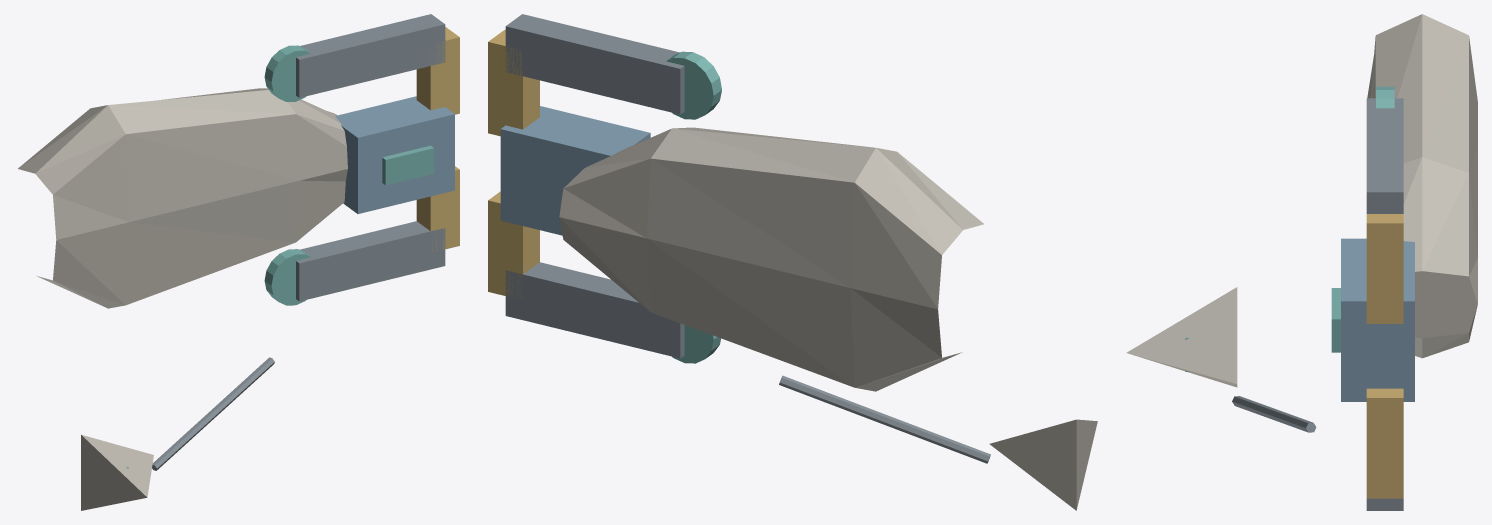
Rendered from 19_pip_and_spanner.glb.
3 views of the same model, side by side, from view 1: azimuth 30°, elevation 25°; view 2: azimuth 150°, elevation 25°; view 3: azimuth 270°, elevation 25° (orthographic). The views are drawn at different scales.
Parts seen in each view (by area): view 1: HULL_001, part_008, part_005, part_002, PIP_010, part_007, part_004, part_006, part_003, part_009, part_012; view 2: HULL_001, part_005, part_008, part_002, PIP_010, part_007, part_004, part_012, part_006, part_003; view 3: HULL_001, part_008, PIP_010, part_005, part_004, part_007, part_012, part_009, part_002, part_006.
Part boxes in pixels (bbox=[...]): HULL_001: bbox=[18, 88, 347, 308]; part_008: bbox=[335, 96, 454, 213]; part_005: bbox=[296, 14, 445, 97]; part_002: bbox=[296, 221, 445, 301]; PIP_010: bbox=[81, 434, 153, 510]; part_007: bbox=[416, 27, 459, 114]; part_004: bbox=[416, 166, 459, 251]; part_006: bbox=[264, 45, 310, 101]; part_003: bbox=[264, 249, 310, 305]; part_009: bbox=[382, 145, 434, 185]; part_012: bbox=[152, 357, 274, 470]; HULL_001: bbox=[559, 127, 983, 391]; part_005: bbox=[505, 14, 684, 114]; part_008: bbox=[500, 106, 650, 235]; part_002: bbox=[505, 262, 684, 358]; PIP_010: bbox=[989, 419, 1097, 510]; part_007: bbox=[488, 29, 539, 136]; part_004: bbox=[488, 191, 539, 299]; part_012: bbox=[779, 375, 990, 463]; part_006: bbox=[666, 51, 721, 119]; part_003: bbox=[672, 325, 720, 363]; HULL_001: bbox=[1367, 14, 1477, 358]; part_008: bbox=[1341, 238, 1414, 401]; PIP_010: bbox=[1126, 287, 1237, 387]; part_005: bbox=[1366, 98, 1403, 213]; part_004: bbox=[1366, 388, 1403, 498]; part_007: bbox=[1366, 214, 1403, 323]; part_012: bbox=[1232, 396, 1316, 432]; part_009: bbox=[1331, 288, 1340, 352]; part_002: bbox=[1366, 498, 1403, 510]; part_006: bbox=[1376, 86, 1394, 108].
Size of the model in its own units: 17.6 by 14 by 9.5.
